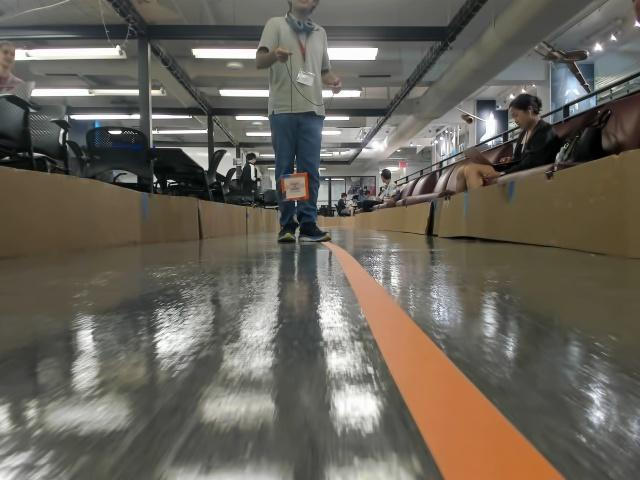Do Not Go Around: (285, 181, 303, 193)
